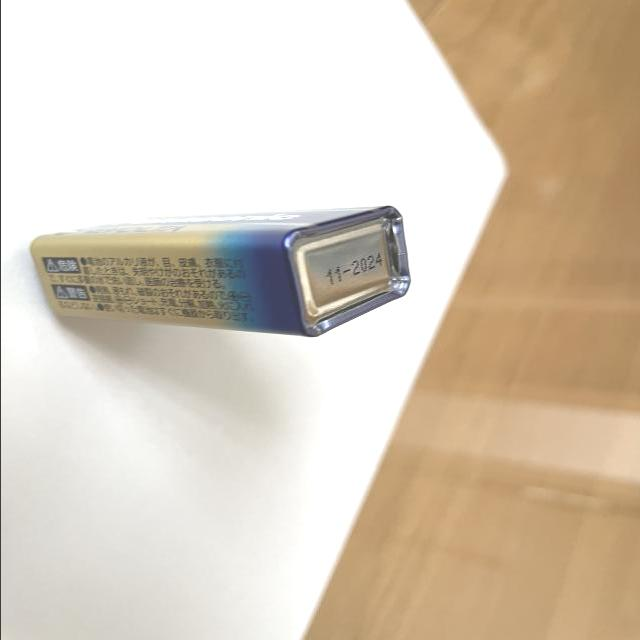9V: (25, 205, 413, 337)
